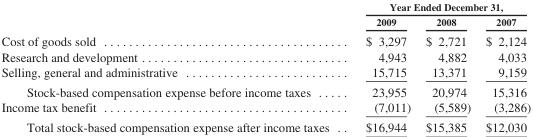table: (0, 0, 530, 134)
table column: (0, 0, 346, 134), (346, 0, 417, 134), (417, 0, 477, 134), (477, 0, 530, 134)
table column header: (0, 0, 530, 30)
table row: (0, 30, 530, 48), (0, 63, 530, 81), (0, 81, 530, 99), (0, 116, 530, 134), (0, 99, 530, 116), (0, 14, 530, 30), (0, 48, 530, 63), (0, 0, 530, 14)
table spanning cell: (346, 0, 530, 14)
